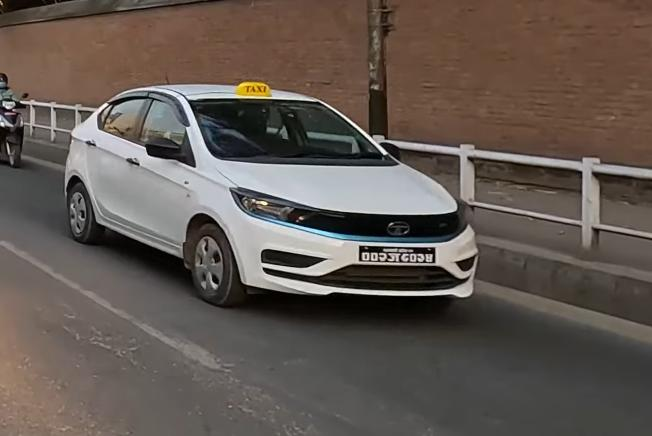scooter: (0, 91, 33, 171)
taxi: (55, 74, 488, 321)
